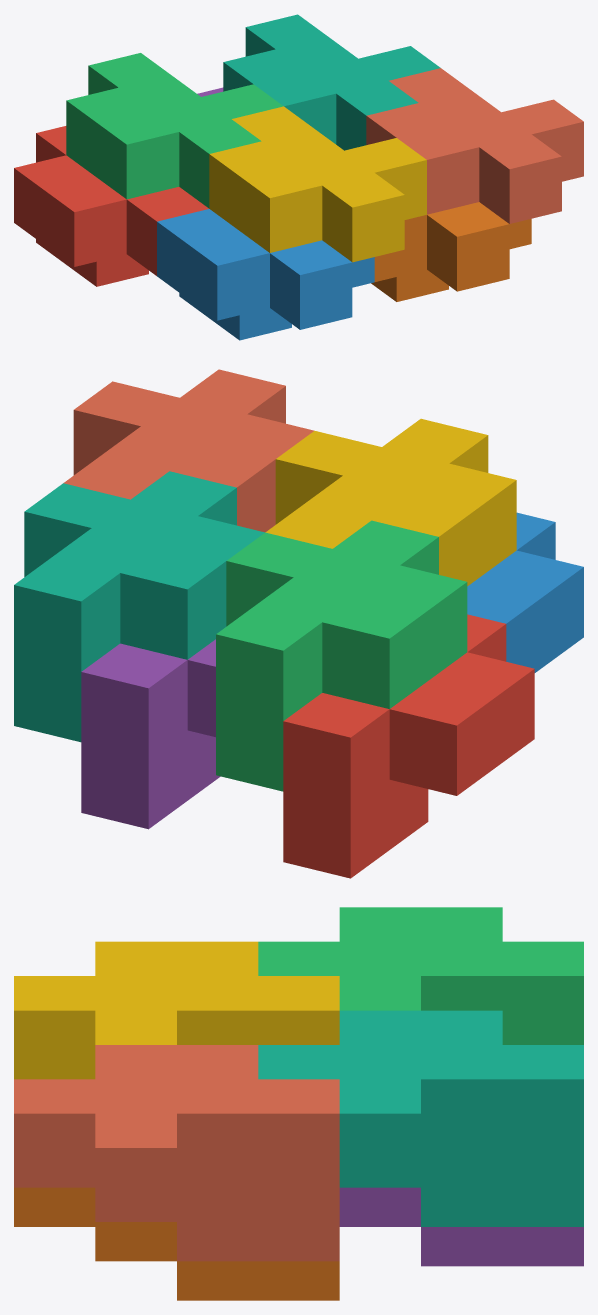
File: tiling.obj
The picture shows the model from 3 angles, top to bottom: view 1: azimuth 30°, elevation 25°; view 2: azimuth 150°, elevation 25°; view 3: azimuth 270°, elevation 25°; orthographic projection. The views are drawn at different scales.
Parts seen in each view (by area): view 1: copy_1_domain_4, copy_1_domain_8, copy_1_domain_3, copy_1_domain_2, copy_1_domain_1, copy_1_domain_7, copy_1_domain_6; view 2: copy_1_domain_3, copy_1_domain_7, copy_1_domain_1, copy_1_domain_4, copy_1_domain_8, copy_1_domain_5, copy_1_domain_2; view 3: copy_1_domain_8, copy_1_domain_7, copy_1_domain_4, copy_1_domain_3, copy_1_domain_6, copy_1_domain_5.
Boxes of the visible parts, bbox=[...] form: copy_1_domain_4: bbox=[209, 106, 426, 262]; copy_1_domain_8: bbox=[366, 68, 583, 223]; copy_1_domain_3: bbox=[66, 53, 283, 208]; copy_1_domain_2: bbox=[157, 209, 374, 340]; copy_1_domain_1: bbox=[14, 126, 208, 286]; copy_1_domain_7: bbox=[223, 14, 440, 150]; copy_1_domain_6: bbox=[371, 202, 531, 301]; copy_1_domain_3: bbox=[216, 520, 467, 791]; copy_1_domain_7: bbox=[14, 471, 264, 742]; copy_1_domain_1: bbox=[283, 614, 534, 878]; copy_1_domain_4: bbox=[265, 418, 516, 586]; copy_1_domain_8: bbox=[63, 369, 313, 532]; copy_1_domain_5: bbox=[81, 639, 220, 829]; copy_1_domain_2: bbox=[467, 512, 583, 672]; copy_1_domain_8: bbox=[14, 1045, 339, 1261]; copy_1_domain_7: bbox=[258, 1010, 583, 1226]; copy_1_domain_4: bbox=[14, 941, 339, 1079]; copy_1_domain_3: bbox=[258, 907, 583, 1044]; copy_1_domain_6: bbox=[14, 1187, 339, 1300]; copy_1_domain_5: bbox=[339, 1187, 583, 1266].
Size of the model in its own units: 8 by 3 by 7.
